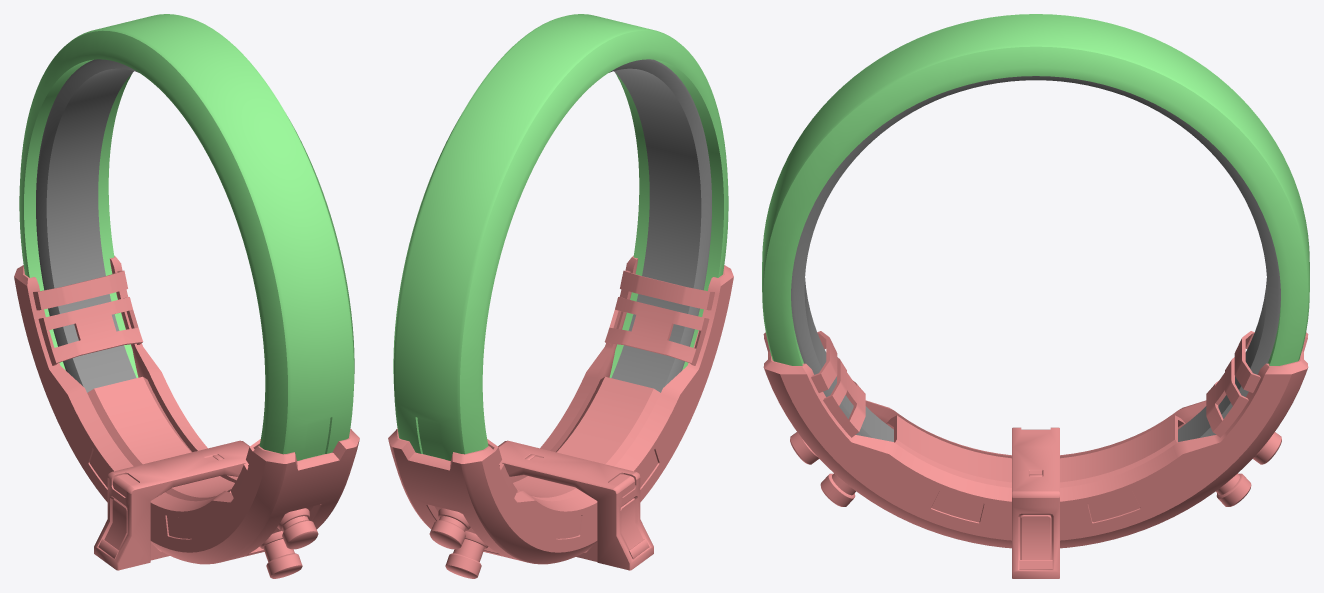
Rendered from S_Envi_Laboratory_Building_036.gltf.
The picture shows the model from 3 angles, left to right: view 1: azimuth 30°, elevation 25°; view 2: azimuth 150°, elevation 25°; view 3: azimuth 270°, elevation 25°; orthographic projection.
Parts seen in each view (by area): view 1: S_Envi_Laboratory_Building_036; view 2: S_Envi_Laboratory_Building_036; view 3: S_Envi_Laboratory_Building_036.
Part boxes in pixels (left/top/right/bottom): S_Envi_Laboratory_Building_036: left=14, top=14, right=359, bottom=578; S_Envi_Laboratory_Building_036: left=388, top=14, right=733, bottom=578; S_Envi_Laboratory_Building_036: left=762, top=14, right=1309, bottom=578.
Bounding box in the file's own units: 2.54 × 7.44 × 7.25.
